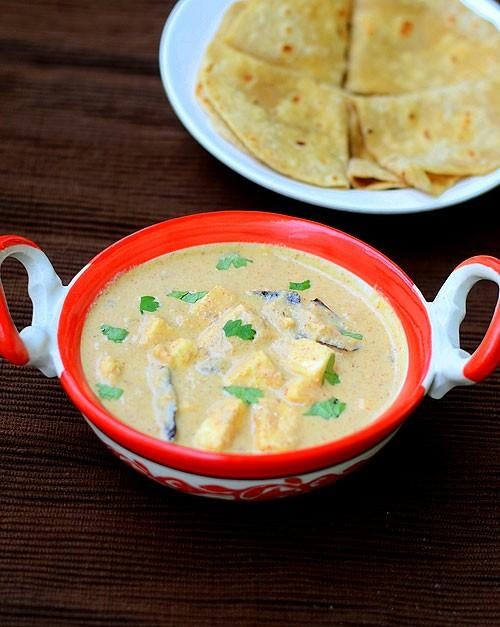ShahiPaneer: (78, 244, 410, 453)
